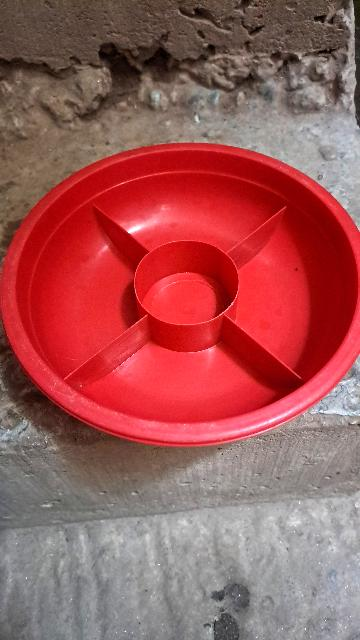hardplastic: (3, 144, 360, 447)
